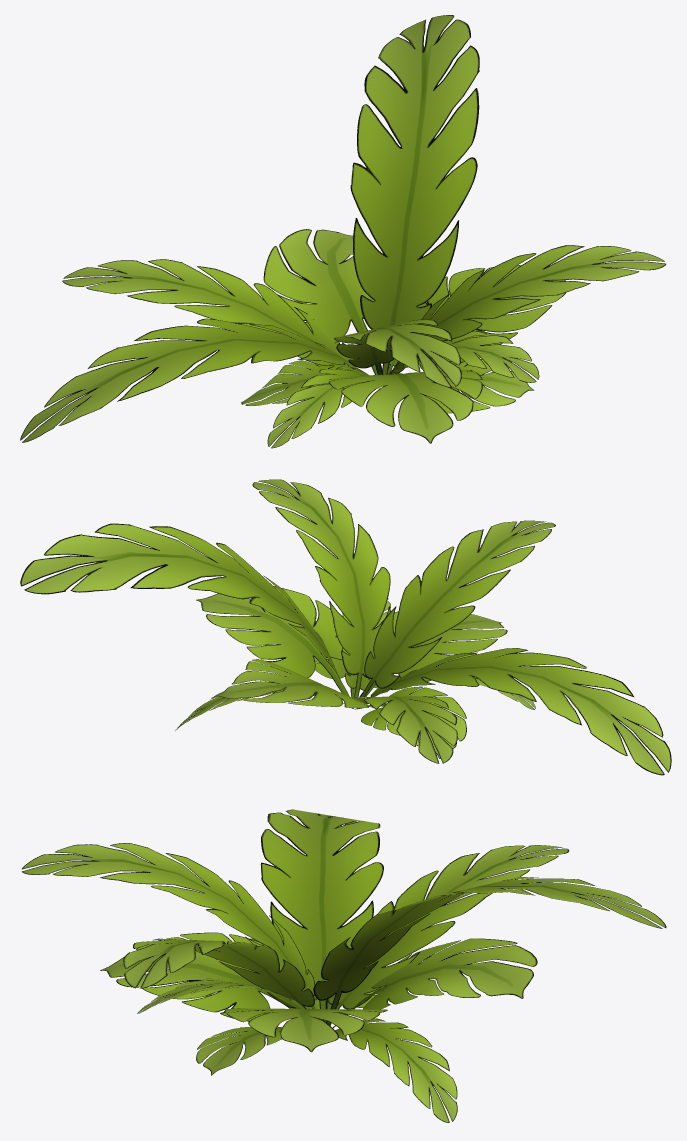
The model's file is Moonset_FBX_foliage_grand_02.fbx.
The picture shows the model from 3 angles, top to bottom: view 1: azimuth 30°, elevation 25°; view 2: azimuth 150°, elevation 25°; view 3: azimuth 270°, elevation 25°; orthographic projection. The views are drawn at different scales.
Visible parts, largest first — view 1: Foliage_grand_02; view 2: Foliage_grand_02; view 3: Foliage_grand_02.
Boxes of the visible parts, bbox=[...] form: Foliage_grand_02: bbox=[20, 15, 666, 448]; Foliage_grand_02: bbox=[20, 479, 671, 775]; Foliage_grand_02: bbox=[22, 809, 666, 1122].
Bounding box in the file's own units: 3.98 × 1.6 × 3.71.
